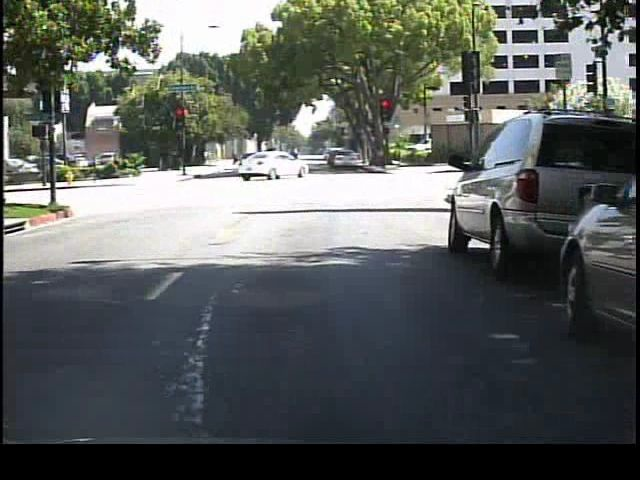person: (288, 142, 304, 176)
